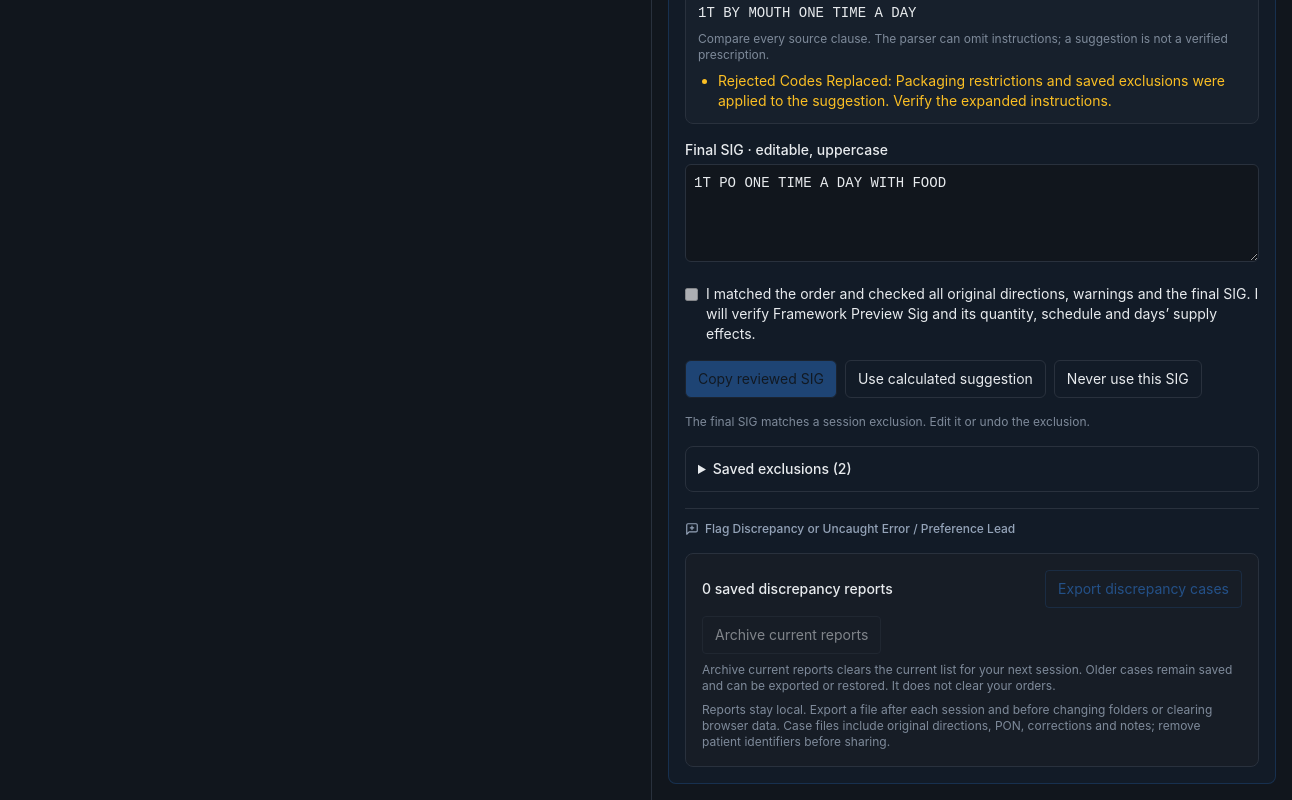
Test case: updates an unedited Workbench draft immediately, preserves technician edits and saves restrictions for reload
Earlier steps of the test are not shown.
Later steps or results of the test are not shown.
(page scrolled)
Check: the button "Copy reviewed SIG" is disabled, box [685,360,837,398]
Click the button "Use calculated suggestion" at (945, 378), box [845,360,1046,398]
(page scrolled)
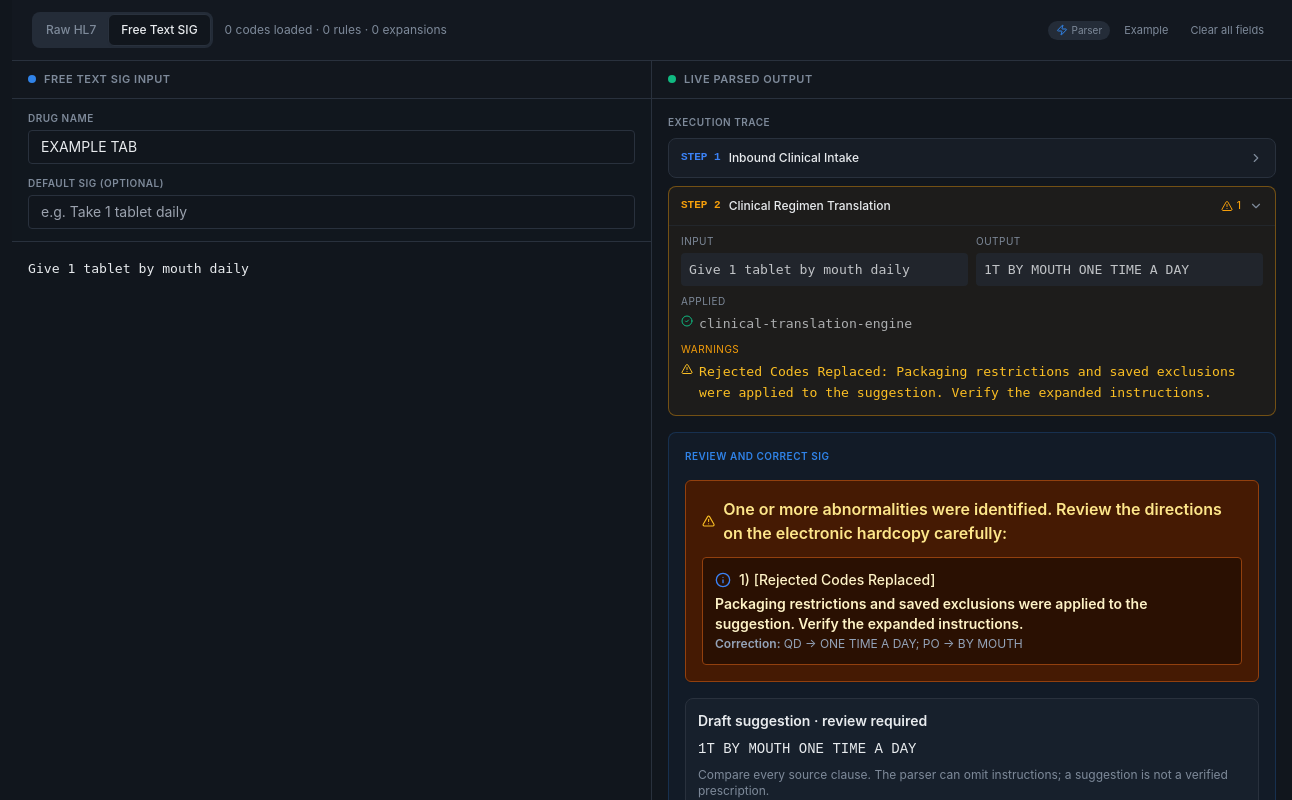
Check: the text "1T BY MOUTH ONE TIME A DAY" next to "Give 1 tablet by mouth daily" is shown, box [984,262,1189,276]
